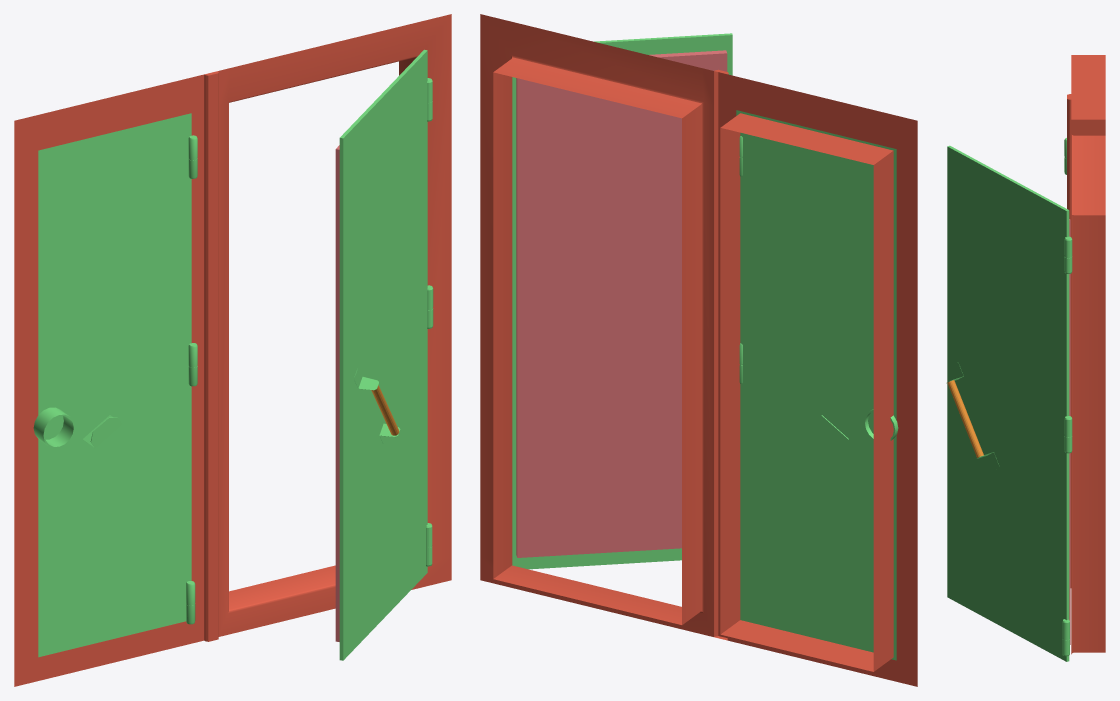
The model's file is Khrushevka_door.fbx.
The picture shows the model from 3 angles, left to right: view 1: azimuth 30°, elevation 25°; view 2: azimuth 150°, elevation 25°; view 3: azimuth 270°, elevation 25°; orthographic projection. The views are drawn at different scales.
Parts seen in each view (by area): view 1: Cylinder.009; view 2: Cylinder.009; view 3: Cylinder.009.
Boxes of the visible parts, <box> form: Cylinder.009: <box>14,14,451,686</box>; Cylinder.009: <box>480,14,917,686</box>; Cylinder.009: <box>946,55,1105,661</box>.
Bounding box in the file's own units: 47.28 × 58.45 × 17.27.
